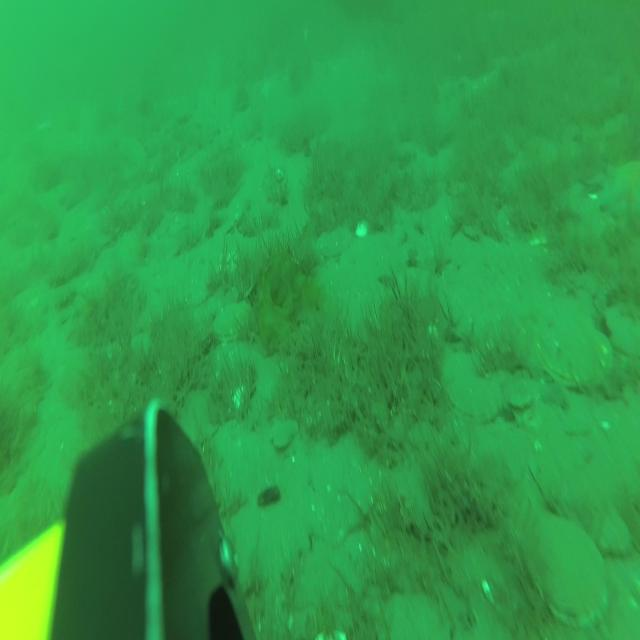scallop: (528, 509, 607, 623), (538, 309, 610, 393), (448, 371, 502, 423), (606, 298, 640, 360), (215, 300, 254, 344), (601, 511, 629, 558), (318, 225, 352, 257), (270, 419, 298, 449), (510, 382, 532, 410)
starfish: (597, 156, 640, 214)
